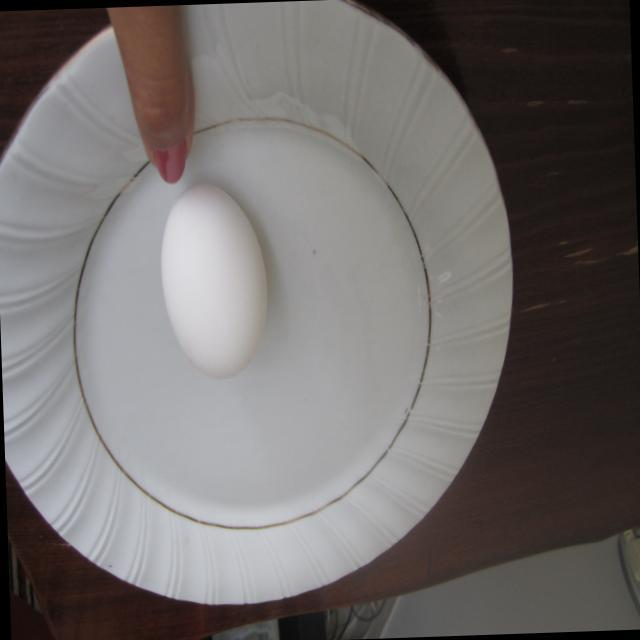Egg: (151, 178, 288, 396)
